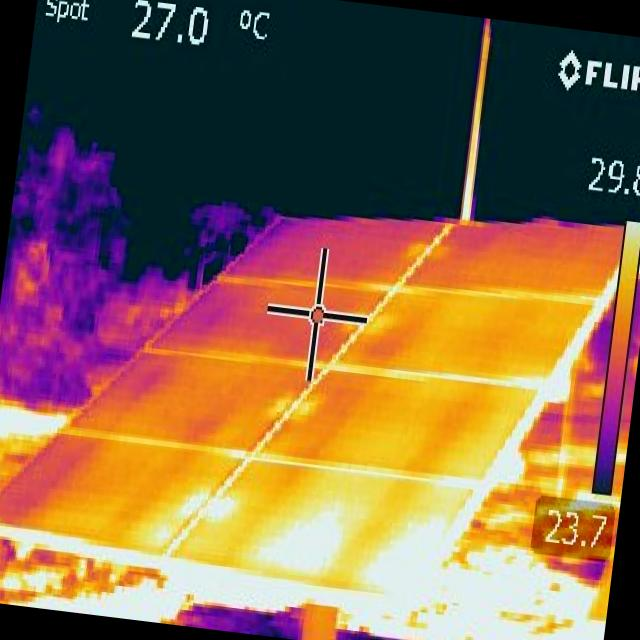Hotspot: (245, 489, 356, 584), (365, 517, 436, 599), (166, 474, 210, 526), (143, 514, 185, 552), (202, 489, 238, 527), (294, 396, 322, 430), (264, 394, 292, 424)
